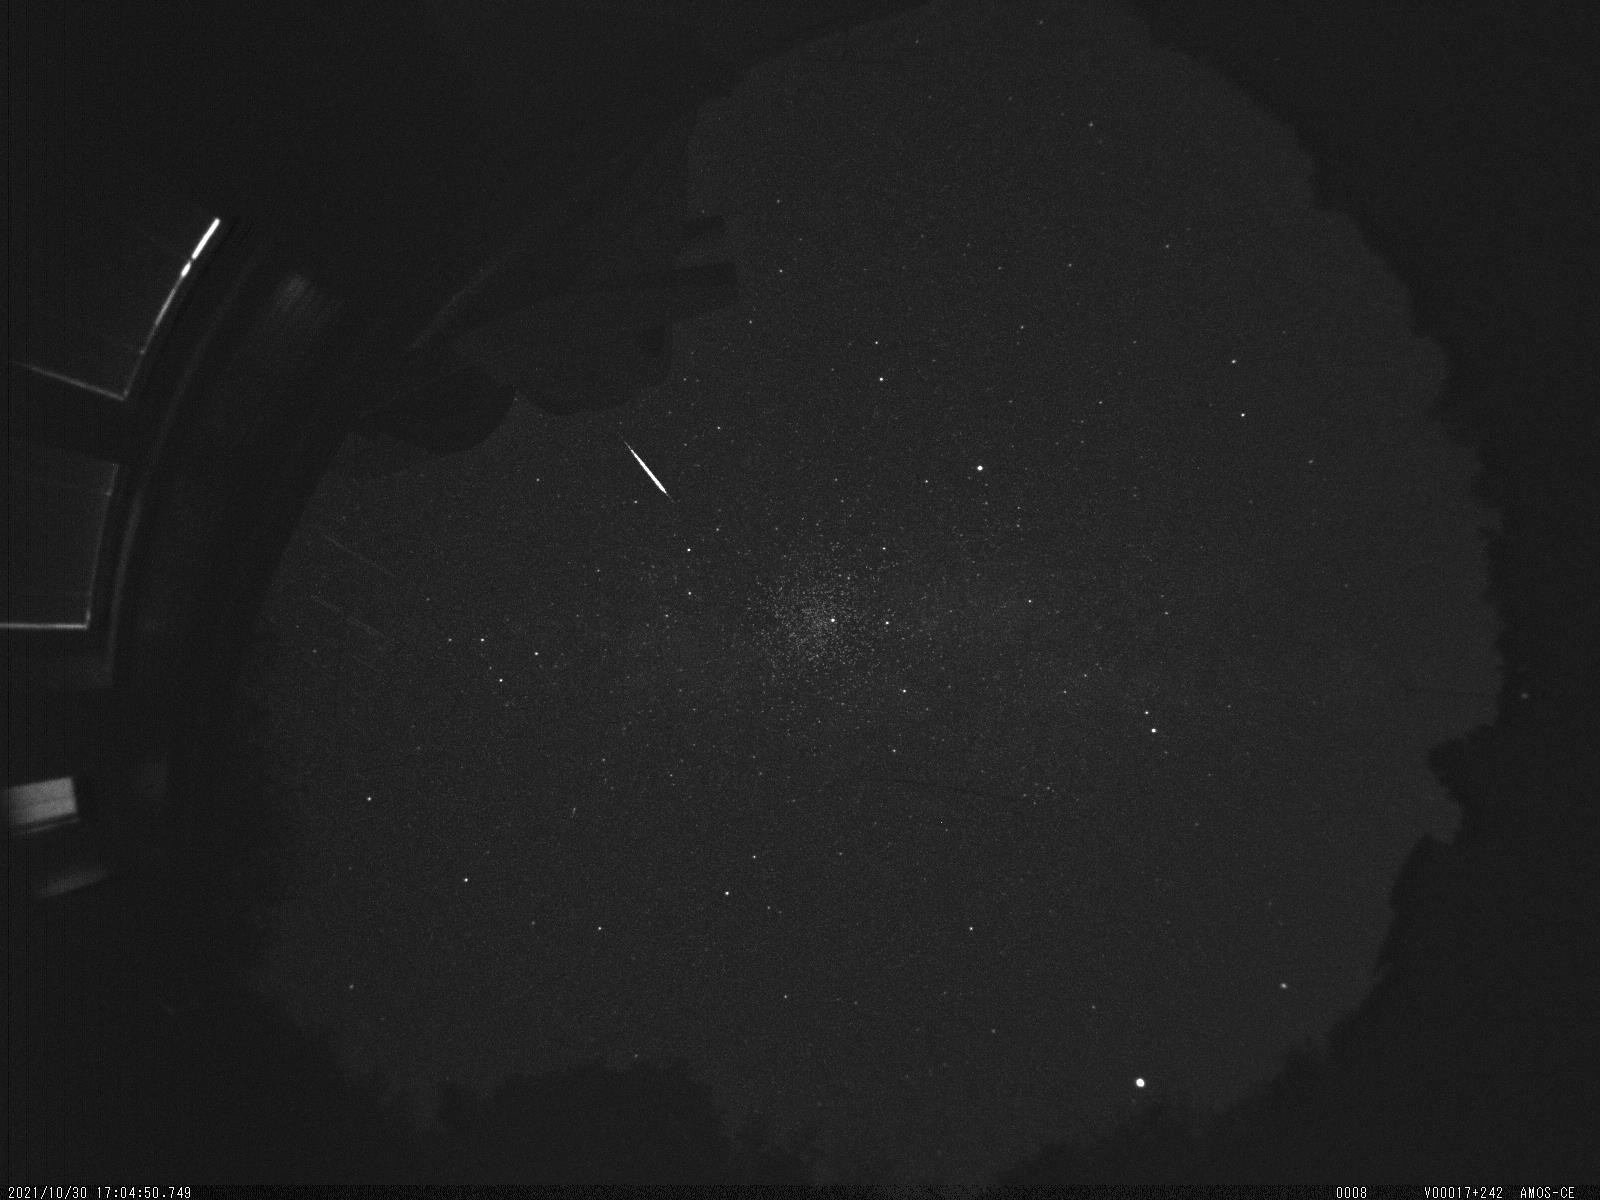Meteor: (614, 429, 685, 508)
